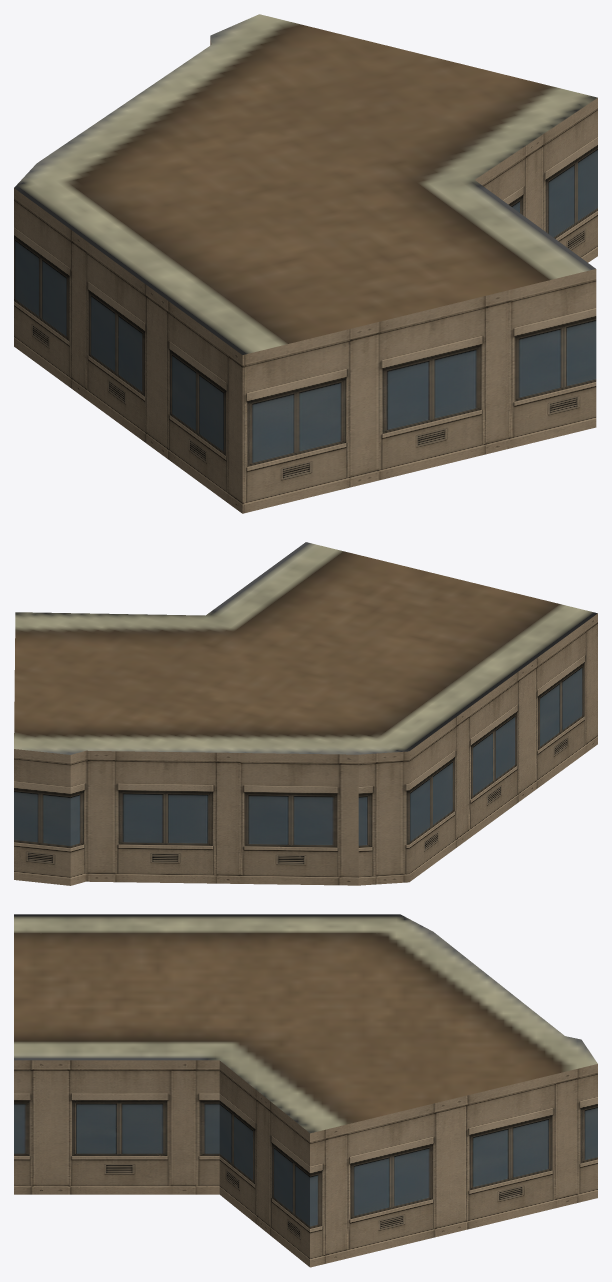
Rendered from light_roof10.glb.
3 views of the same model, one above another, from view 1: azimuth 30°, elevation 25°; view 2: azimuth 150°, elevation 25°; view 3: azimuth 270°, elevation 25° (orthographic). The views are drawn at different scales.
Visible parts, largest first — view 1: buildings/saxarba/light/light_roof10; view 2: buildings/saxarba/light/light_roof10; view 3: buildings/saxarba/light/light_roof10.
Boxes of the visible parts, x1,y1,x2,y2 form: buildings/saxarba/light/light_roof10: (14, 14, 597, 513); buildings/saxarba/light/light_roof10: (14, 542, 597, 885); buildings/saxarba/light/light_roof10: (14, 914, 597, 1267).
Bounding box in the file's own units: 63 × 18 × 71.
